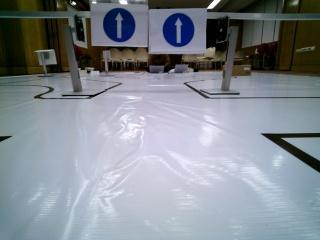straight: (149, 7, 205, 52), (94, 2, 149, 45)
